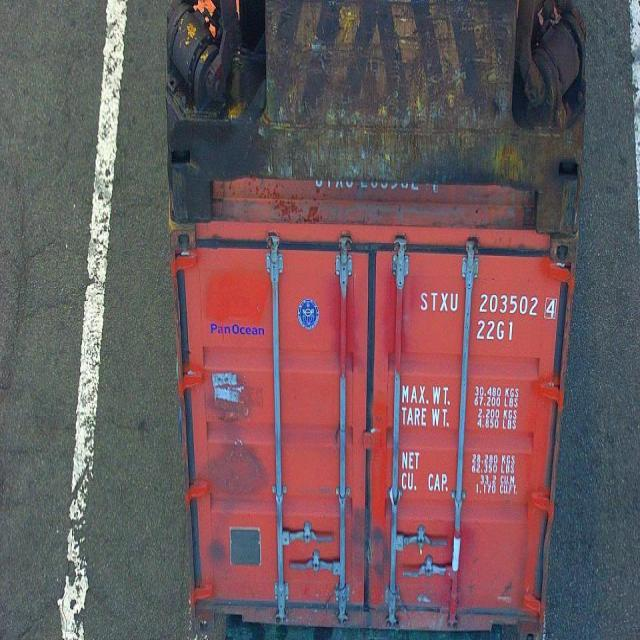ISO: (475, 320, 517, 342)
container_number: (421, 291, 557, 316)
